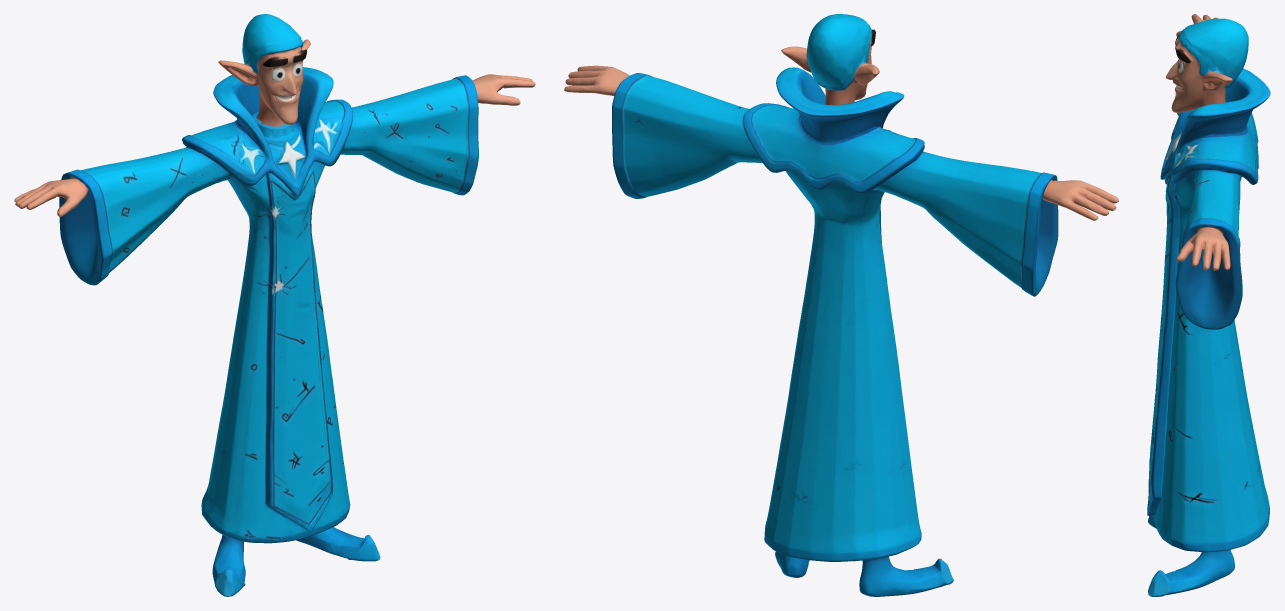
The model's file is archmage_pell.glb.
The picture shows the model from 3 angles, left to right: view 1: azimuth 30°, elevation 25°; view 2: azimuth 150°, elevation 25°; view 3: azimuth 270°, elevation 25°; orthographic projection. The views are drawn at different scales.
Parts seen in each view (by area): view 1: tripo_node_f713f86c-60a4-4ec3-ba7f-9187b2c40338; view 2: tripo_node_f713f86c-60a4-4ec3-ba7f-9187b2c40338; view 3: tripo_node_f713f86c-60a4-4ec3-ba7f-9187b2c40338.
Boxes of the visible parts, x1=… form: tripo_node_f713f86c-60a4-4ec3-ba7f-9187b2c40338: x1=14, y1=14, x2=535, y2=596; tripo_node_f713f86c-60a4-4ec3-ba7f-9187b2c40338: x1=564, y1=14, x2=1118, y2=596; tripo_node_f713f86c-60a4-4ec3-ba7f-9187b2c40338: x1=1147, y1=14, x2=1270, y2=596.
Size of the model in its own units: 0.9803 by 0.9778 by 0.2025.
Materials: 1 (1 with a texture image).
